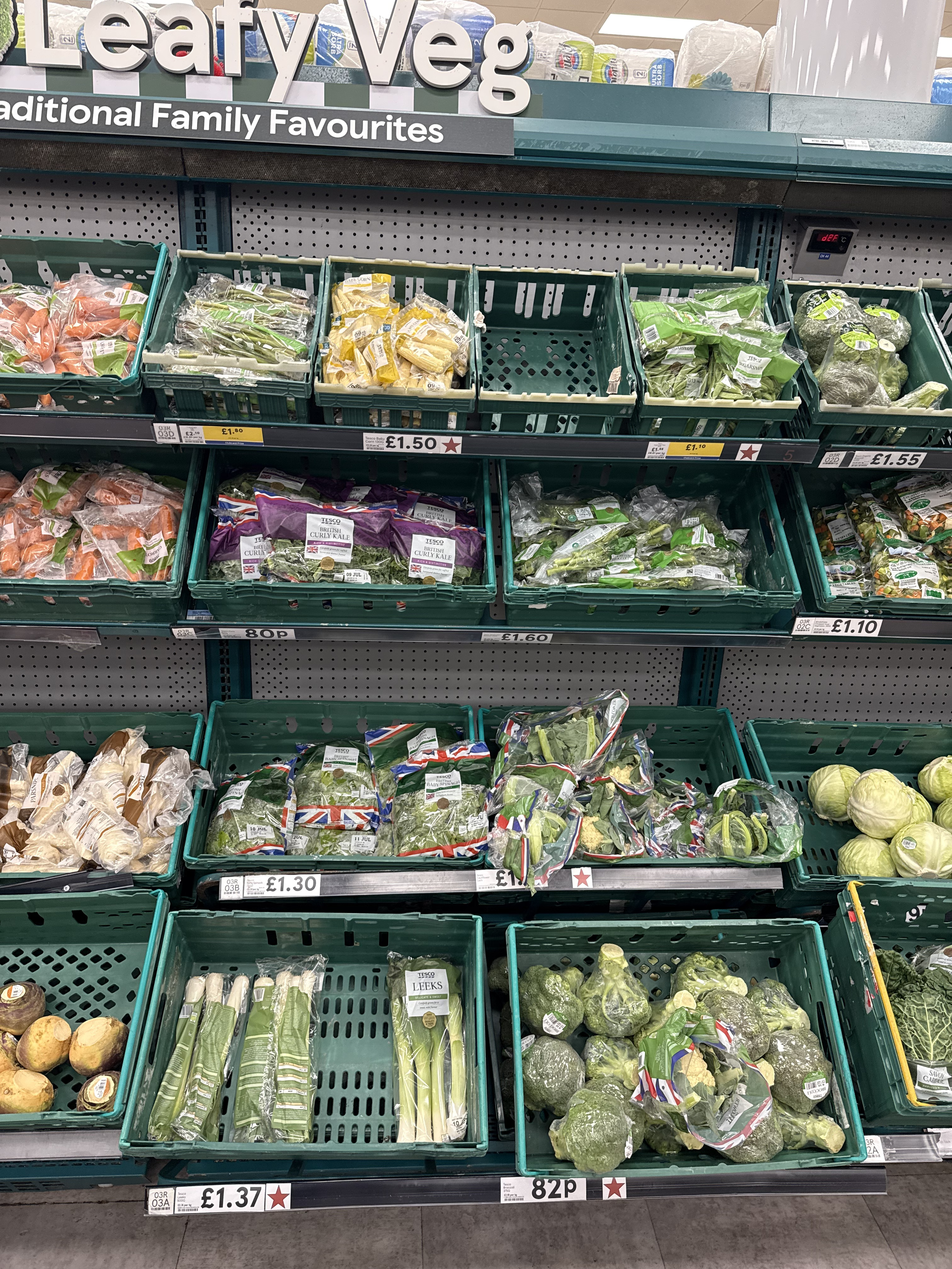large: (175, 1184, 266, 1214), (500, 1177, 586, 1204)
medium: (363, 433, 462, 454), (243, 874, 321, 896), (848, 451, 928, 469), (810, 618, 883, 637), (475, 869, 525, 890), (219, 628, 295, 639), (481, 632, 553, 643)
small: (179, 426, 264, 446), (644, 442, 725, 460), (341, 569, 371, 584)
